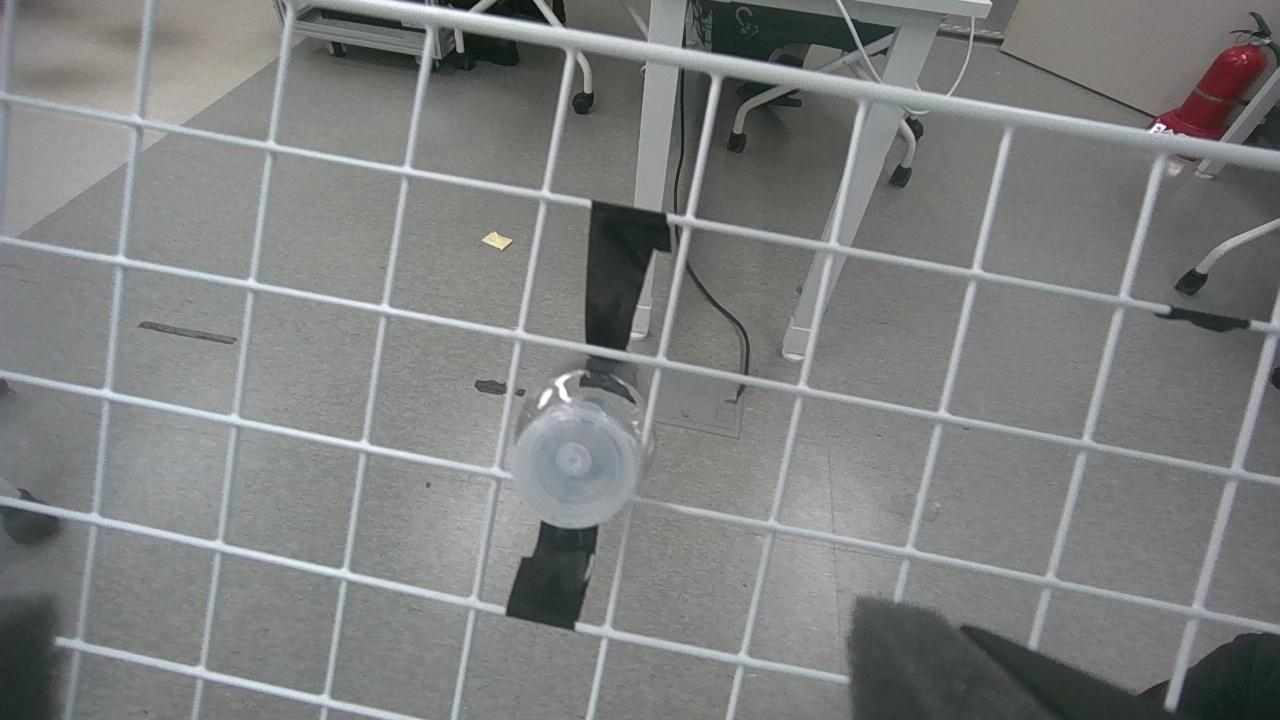Cap: (508, 404, 640, 534)
